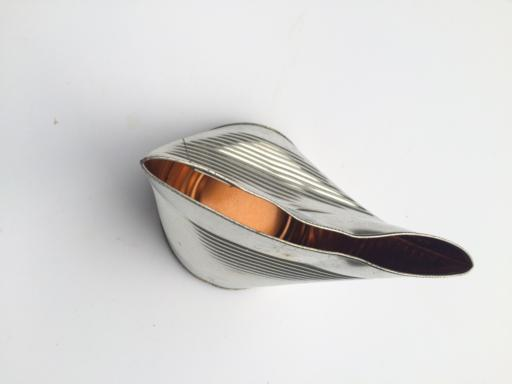metal: (139, 120, 471, 292)
